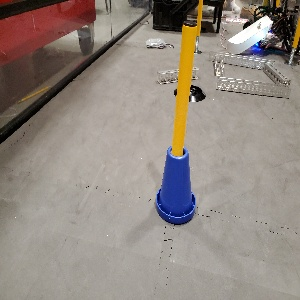Blue_1: (154, 143, 196, 225)
